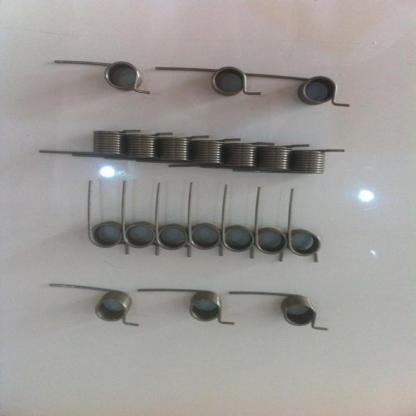FOD: (47, 280, 142, 328), (228, 290, 330, 332), (50, 60, 151, 96)
